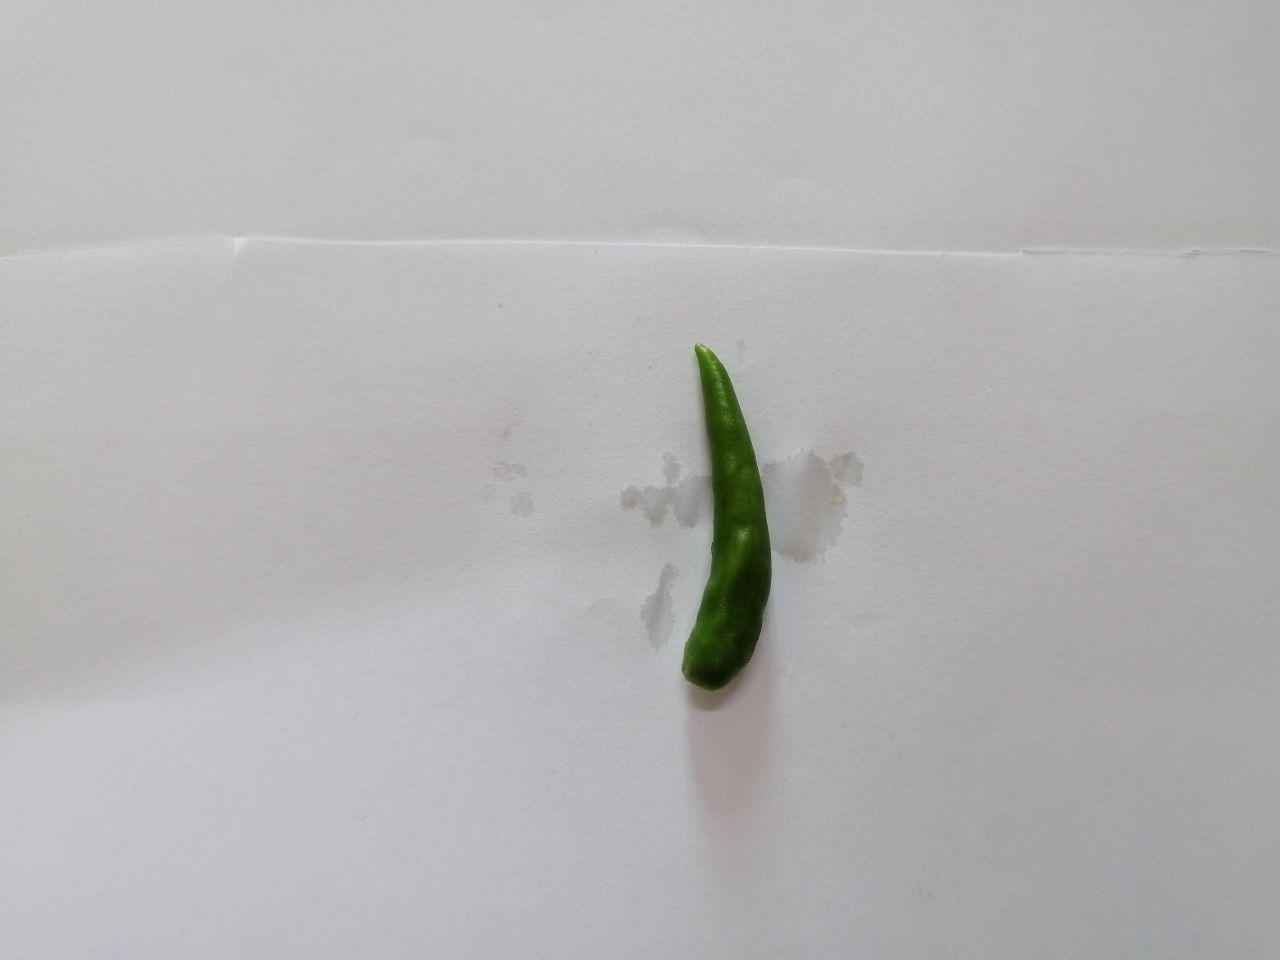lada hijau: (631, 319, 802, 712)
